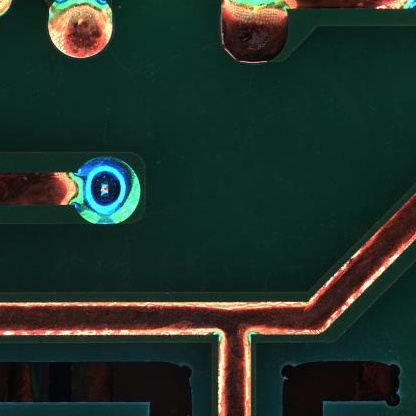spot: (76, 158, 141, 226)
